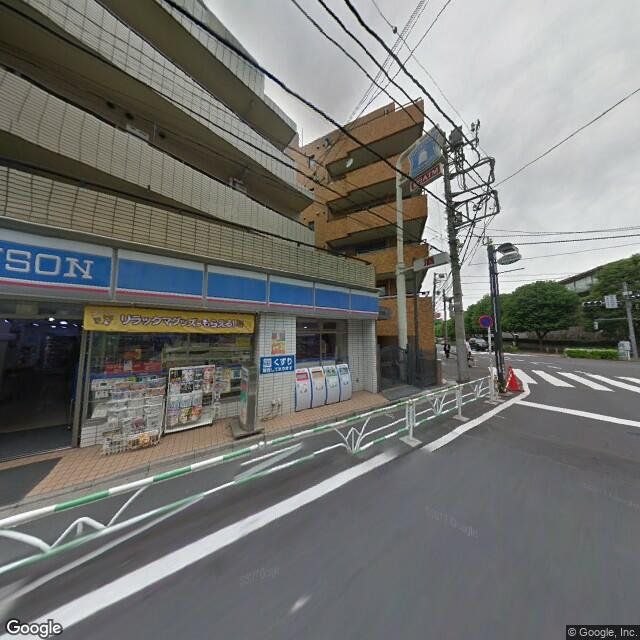lawson: (1, 230, 380, 322), (408, 121, 443, 176)
